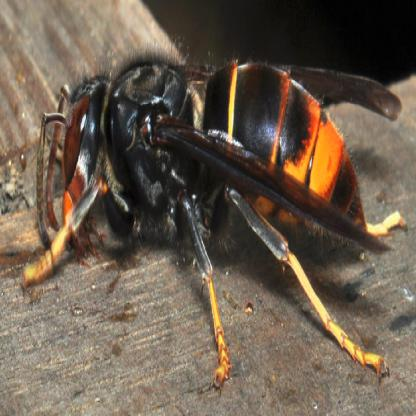asian: (34, 49, 400, 394)
